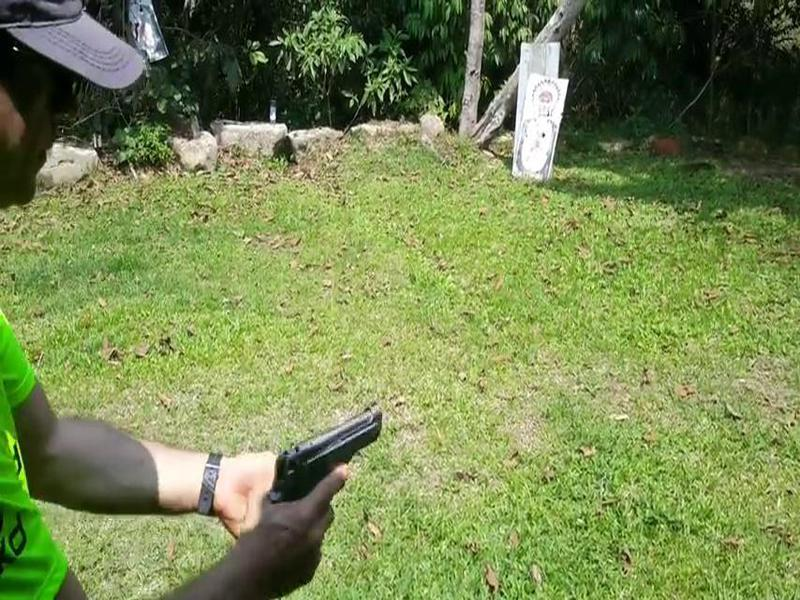Pistola: (267, 397, 388, 532)
